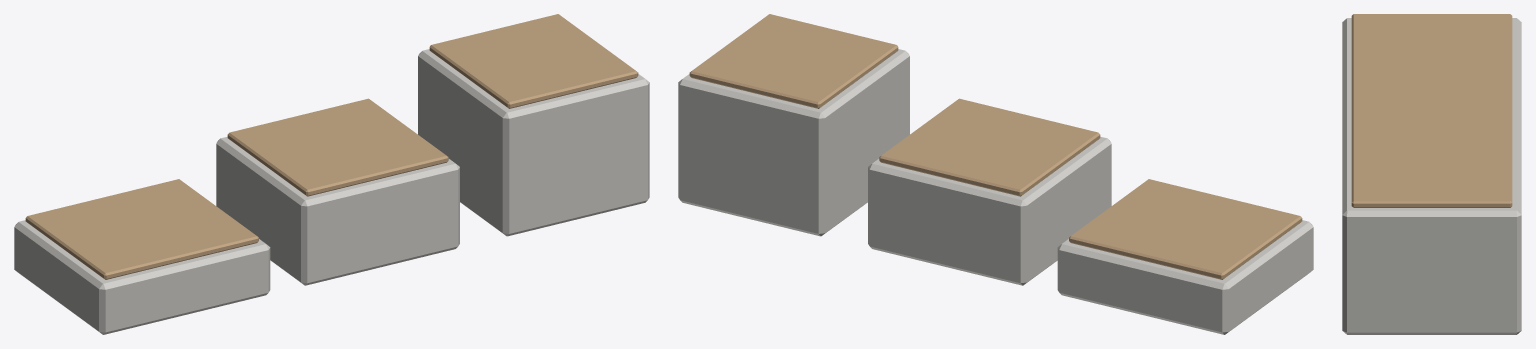
Rendered from bakery-and-cafe-display-riser-set-ec373af9__22176.glb.
3 renders of one model, left to right at view 1: azimuth 30°, elevation 25°; view 2: azimuth 150°, elevation 25°; view 3: azimuth 270°, elevation 25°, orthographic.
Visible parts, largest first — view 1: display-riser-set; view 2: display-riser-set; view 3: display-riser-set.
Part boxes in pixels (x1,y1,x2,y2): display-riser-set: [14, 14, 649, 334]; display-riser-set: [678, 14, 1313, 334]; display-riser-set: [1342, 14, 1521, 334].
Size of the model in its own units: 0.675 by 0.153 by 0.19.
